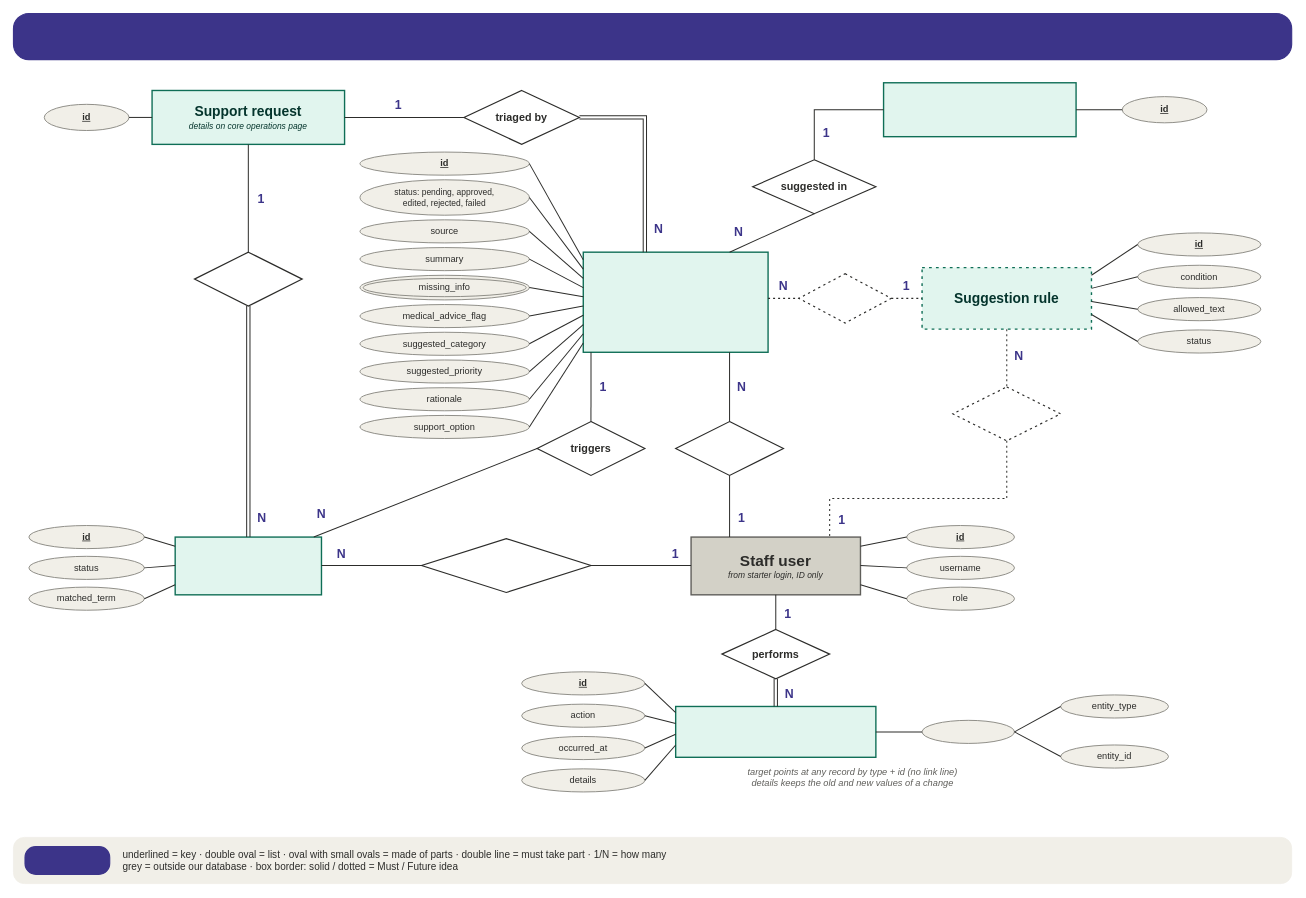
This 1306x898 diagram has some shape labels left out. The shapes that lost their labels are listed below. From the top down, each one's centre as x and y in pixels, then its label:
At (652,36): "HeatShield ERD - AI and governance".
At (979,109): "Cooling centre details on core operations page".
At (248,278): "escalates".
At (845,298): "allows".
At (675,302): "AI suggestion".
At (1006,413): "approves".
At (729,448): "decides".
At (248,565): "Escalation".
At (506,565): "acknowledges".
At (775,731): "Audit entry".
At (968,731): "target".
At (67,860): "Legend:".
